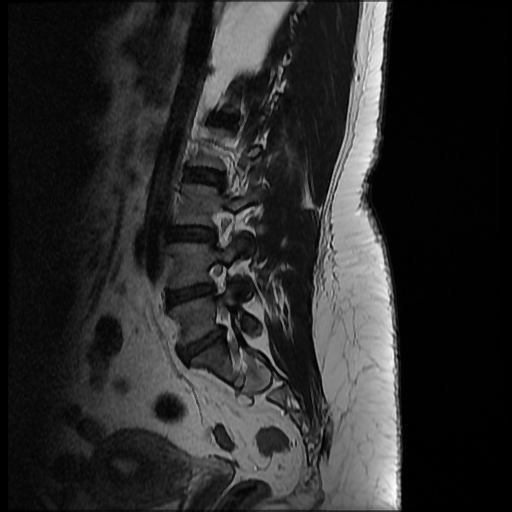RFS0: (202, 200, 241, 253)
